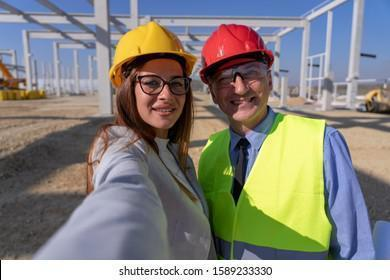helmet: (110, 20, 197, 87), (199, 23, 274, 83)
